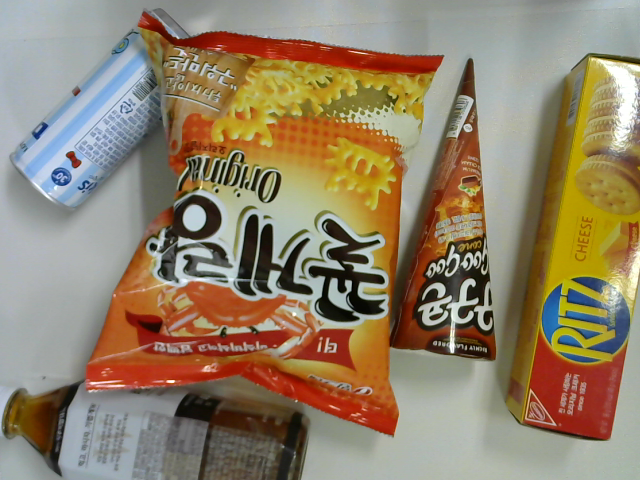Crabrang: (85, 8, 445, 436)
GooGoo_Cone_CVS: (388, 59, 507, 363)
Milkies_250ml: (7, 9, 202, 212)
Post-meal_recipe_W_tea_500ml: (1, 378, 312, 480)
Ritz_Sand_Cracker: (502, 45, 640, 443)
